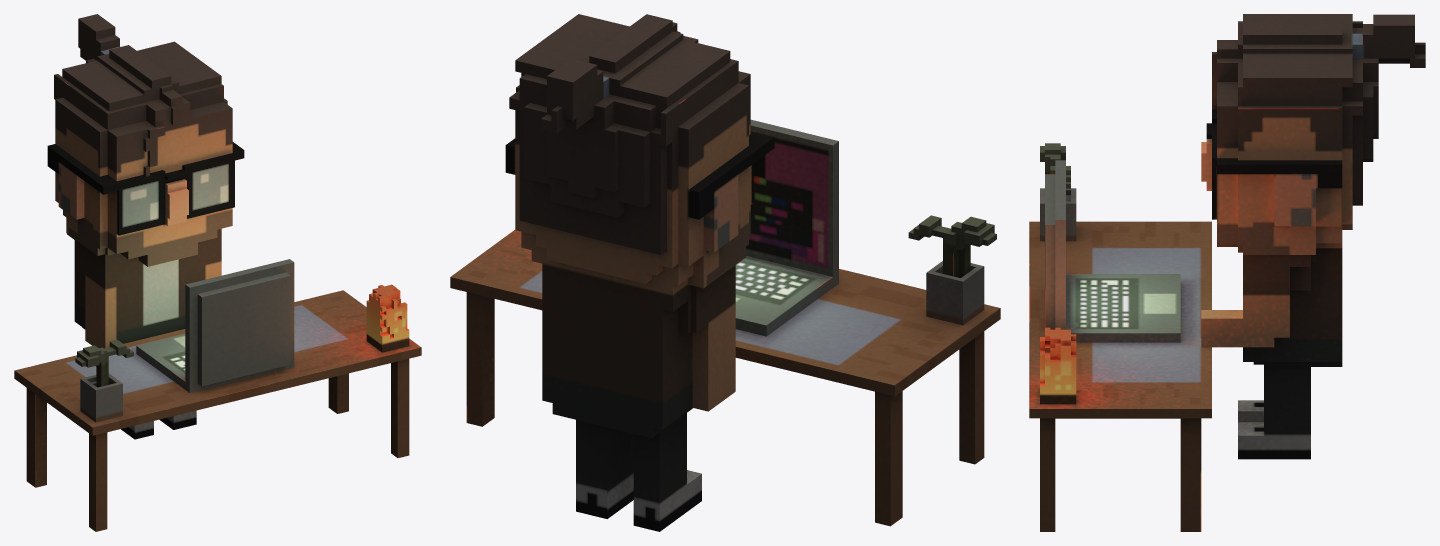
The model's file is Dylan.glb.
3 renders of one model, left to right at view 1: azimuth 30°, elevation 25°; view 2: azimuth 150°, elevation 25°; view 3: azimuth 270°, elevation 25°, orthographic. The views are drawn at different scales.
Parts seen in each view (by area): view 1: ObjObject.001; view 2: ObjObject.001; view 3: ObjObject.001.
Part boxes in pixels (x1,y1,x2,y2): ObjObject.001: (14, 14, 421, 531); ObjObject.001: (450, 14, 1000, 531); ObjObject.001: (1029, 14, 1425, 531).
Size of the model in its own units: 4.12 by 4.26 by 3.64.
Materials: 1 (1 with a texture image).
